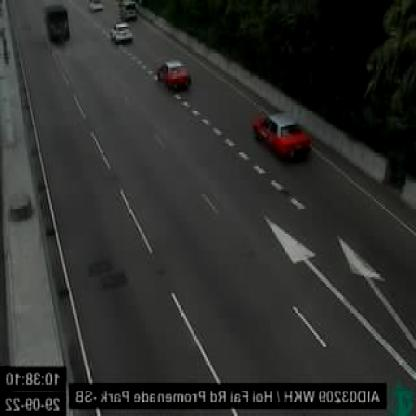Car: (249, 104, 318, 163), (154, 54, 192, 100), (39, 5, 77, 42), (109, 19, 137, 47), (116, 0, 147, 24), (86, 0, 110, 14)
